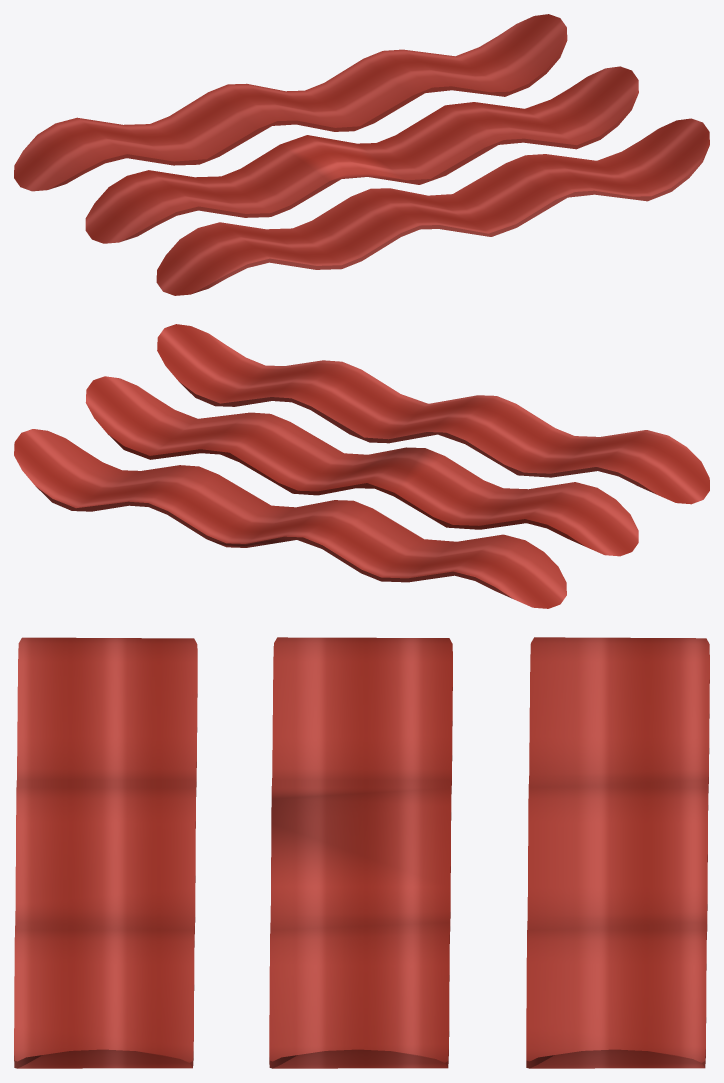
Rendered from bacon.fbx.
3 views of the same model, one above another, from view 1: azimuth 30°, elevation 25°; view 2: azimuth 150°, elevation 25°; view 3: azimuth 270°, elevation 25° (orthographic). The views are drawn at different scales.
Parts seen in each view (by area): view 1: bacon; view 2: bacon; view 3: bacon.
Boxes of the visible parts, x1,y1,x2,y2 form: bacon: (14, 14, 709, 295); bacon: (14, 324, 709, 608); bacon: (14, 637, 709, 1068).
Size of the model in its own units: 121 by 8.8 by 75.12.
